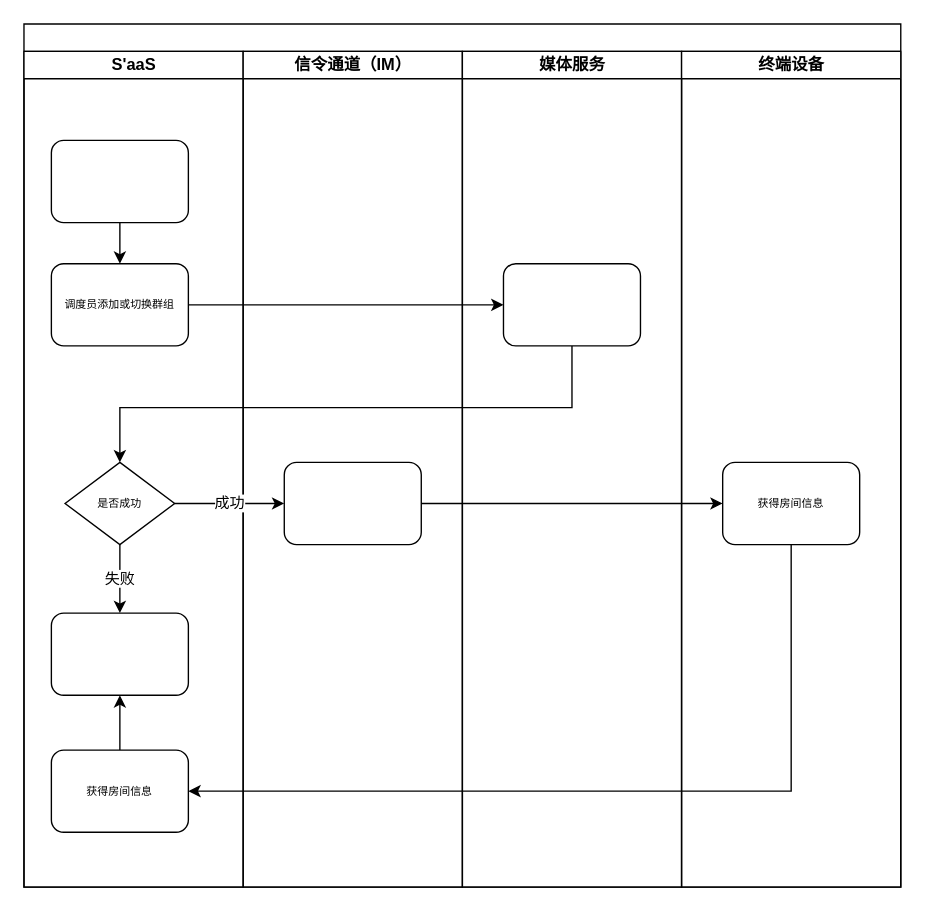
The diagram is 925 pixels wide and 911 high, and some of its shapes have lost their labels. Here are the shapes that lost their labels. From the top down, the centre of each, then its label:
At pixel 119 181: "开始".
At pixel 571 304: "创建或切换群组操作".
At pixel 352 503: "发送信令通知终端 已加入或切换房间".
At pixel 119 653: "结束".
